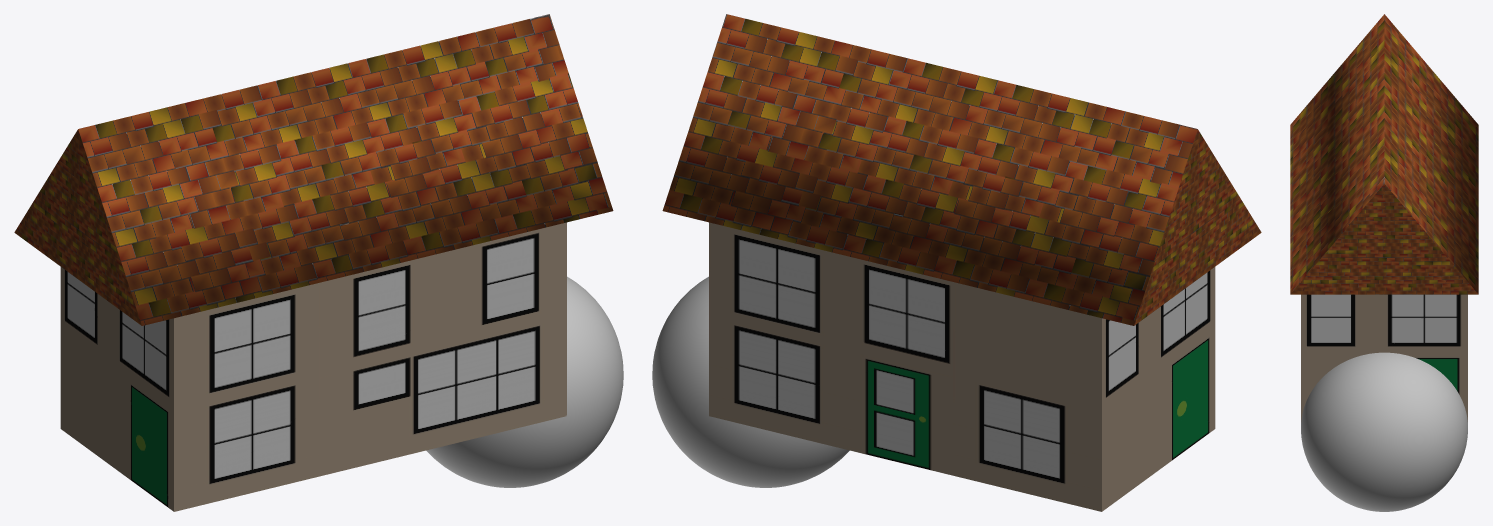
File: sceneTest.glb
3 views of the same model, side by side, from view 1: azimuth 30°, elevation 25°; view 2: azimuth 150°, elevation 25°; view 3: azimuth 270°, elevation 25° (orthographic). The views are drawn at different scales.
Visible parts, largest first — view 1: semi_house, Sphere; view 2: semi_house, Sphere; view 3: semi_house, Sphere.
Part boxes in pixels (bbox=[...]): semi_house: bbox=[14, 14, 613, 511]; Sphere: bbox=[426, 276, 623, 487]; semi_house: bbox=[662, 14, 1261, 511]; Sphere: bbox=[652, 276, 849, 487]; semi_house: bbox=[1290, 14, 1478, 421]; Sphere: bbox=[1301, 352, 1467, 511].
Size of what is drawn, in the model's own units: 2.7 by 2.21 by 1.13.
Materials: 3 (2 with a texture image).
